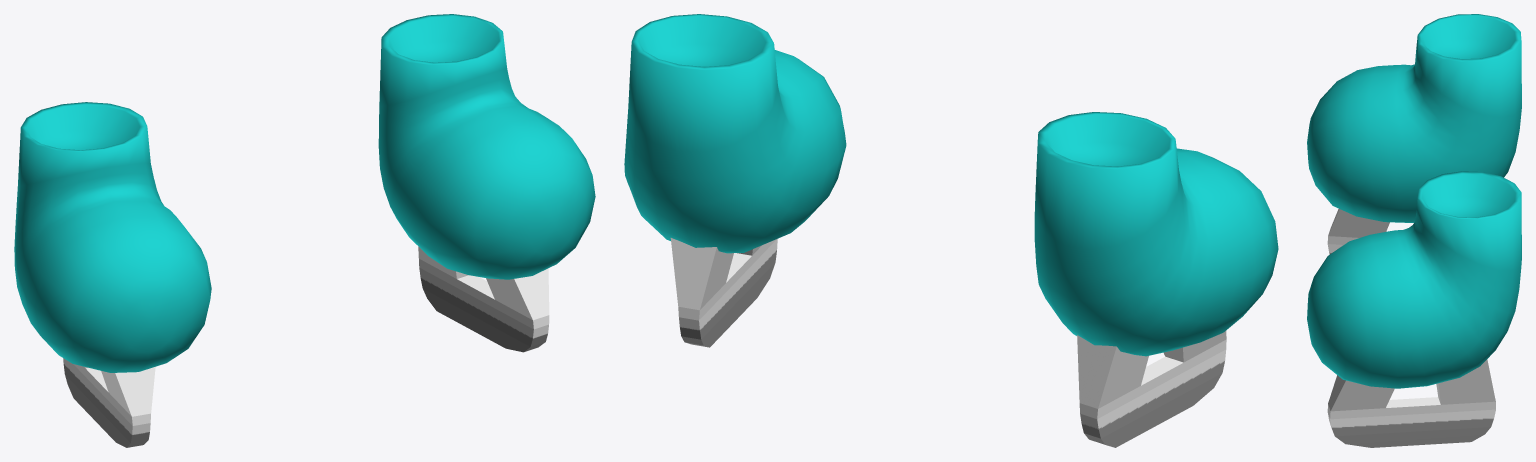
Rendered from HockeyShoes.fbx.
The picture shows the model from 3 angles, left to right: view 1: azimuth 30°, elevation 25°; view 2: azimuth 150°, elevation 25°; view 3: azimuth 270°, elevation 25°; orthographic projection. The views are drawn at different scales.
Parts seen in each view (by area): view 1: HockeyShoes; view 2: HockeyShoes; view 3: HockeyShoes.
Boxes of the visible parts, box(x1,y1,x2,y2) form: HockeyShoes: box(14, 14, 595, 447); HockeyShoes: box(624, 14, 1278, 447); HockeyShoes: box(1307, 14, 1521, 447).
Size of the model in its own units: 0.1217 by 0.0466 by 0.0581.
